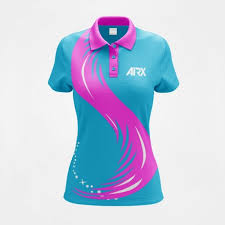S_polo shirt: (47, 11, 178, 214)
